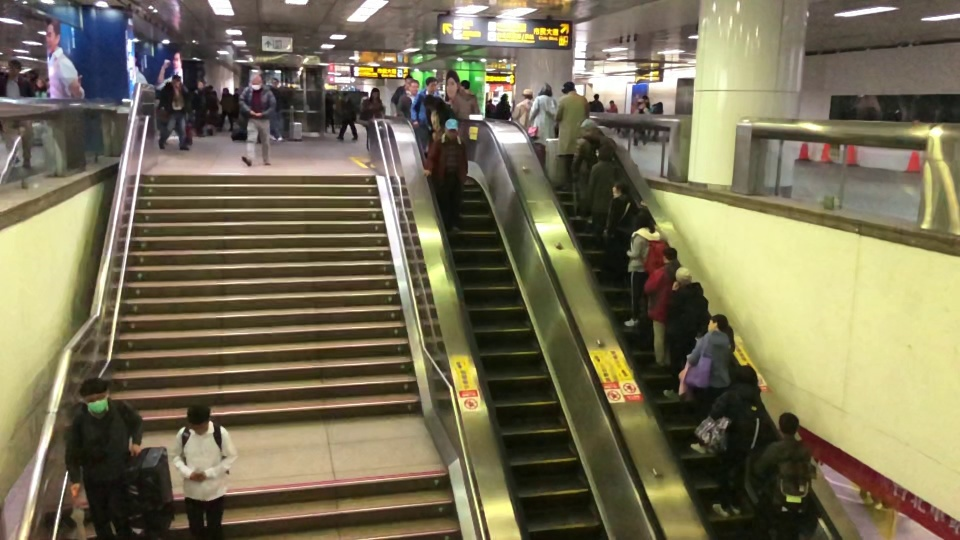person_head: (75, 376, 111, 416), (728, 364, 760, 399), (183, 402, 213, 437), (775, 410, 801, 437), (670, 265, 693, 287), (706, 313, 728, 334), (633, 207, 654, 228), (660, 242, 678, 265), (597, 143, 615, 161), (247, 72, 264, 91), (443, 118, 459, 138), (579, 116, 599, 132), (6, 60, 24, 77), (559, 80, 577, 97), (422, 94, 437, 109), (610, 183, 625, 198), (423, 75, 437, 91), (370, 85, 382, 102), (539, 83, 553, 97), (410, 76, 420, 93), (169, 74, 181, 88), (459, 79, 471, 92), (521, 87, 533, 100), (652, 100, 664, 113), (400, 75, 411, 88), (608, 96, 617, 109), (633, 98, 643, 109), (35, 78, 45, 89), (340, 92, 349, 104), (591, 90, 600, 102), (195, 79, 204, 90), (270, 76, 279, 87), (29, 70, 38, 79), (499, 92, 508, 101), (324, 91, 332, 99), (221, 86, 228, 95), (206, 84, 212, 92), (233, 87, 238, 94), (487, 98, 492, 104)
person_vbox: (64, 376, 143, 540), (707, 365, 771, 519), (749, 410, 823, 540), (170, 402, 238, 540), (686, 312, 738, 455), (661, 265, 709, 398), (622, 207, 671, 327), (225, 72, 281, 168), (422, 118, 469, 231), (642, 241, 681, 371), (588, 142, 625, 251), (554, 80, 590, 192), (568, 115, 604, 224), (1, 60, 36, 169), (601, 183, 637, 288), (153, 74, 190, 152), (409, 70, 443, 130), (528, 82, 556, 152), (356, 85, 387, 148), (421, 94, 455, 136), (450, 79, 480, 124), (627, 97, 652, 146), (336, 92, 359, 141), (509, 87, 534, 130), (268, 76, 284, 143), (192, 79, 207, 138), (647, 100, 667, 143), (216, 86, 234, 133), (393, 74, 413, 116), (405, 75, 419, 118), (604, 96, 621, 130), (206, 84, 219, 124), (323, 91, 335, 134), (494, 92, 512, 120), (590, 87, 603, 118), (32, 79, 48, 98), (27, 70, 39, 92), (232, 87, 239, 123), (485, 98, 496, 118)
